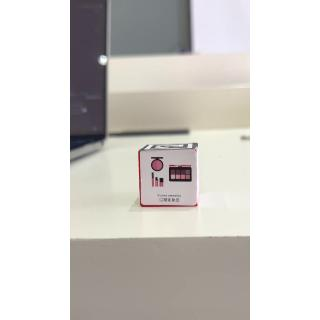Expired_Cosmetic: (139, 149, 199, 209)
